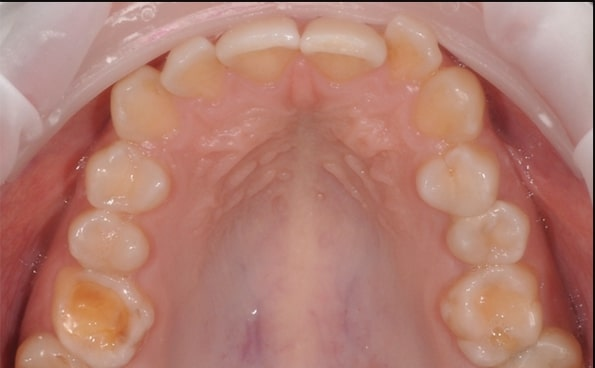UL1BC_healthy: (417, 145, 496, 214)
UL1M_healthy: (447, 268, 540, 362)
UL2BC_healthy: (450, 202, 527, 264)
ULCI_healthy: (301, 20, 383, 77)
ULC_healthy: (421, 68, 482, 140)
ULLI_healthy: (385, 18, 442, 80)
UR1BC_healthy: (86, 144, 169, 211)
UR1M_decay: (53, 265, 153, 364)
UR2BC_healthy: (69, 213, 149, 271)
URCI_healthy: (216, 22, 299, 73)
URC_healthy: (111, 74, 175, 138)
URLI_healthy: (163, 41, 215, 96)
